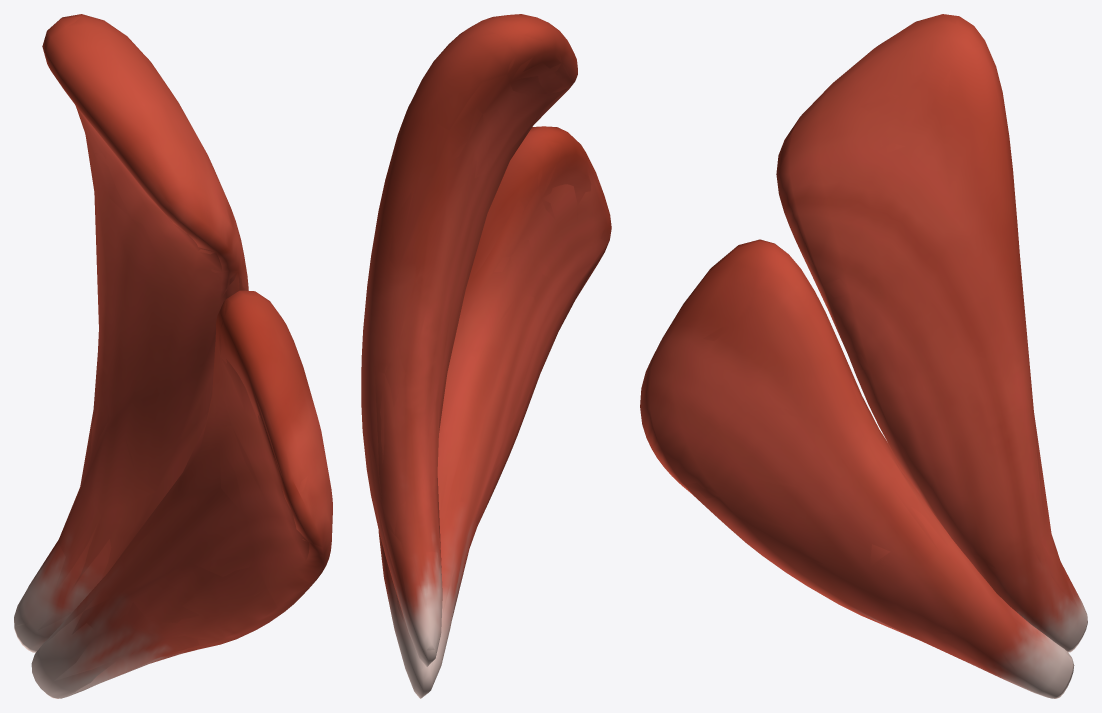
Rendered from L Triceps Brachii Long Head.fbx.
The picture shows the model from 3 angles, left to right: view 1: azimuth 30°, elevation 25°; view 2: azimuth 150°, elevation 25°; view 3: azimuth 270°, elevation 25°; orthographic projection. The views are drawn at different scales.
Parts seen in each view (by area): view 1: L Triceps Brachii Long Head low, L Triceps Brachii Long Head; view 2: L Triceps Brachii Long Head low, L Triceps Brachii Long Head; view 3: L Triceps Brachii Long Head, L Triceps Brachii Long Head low.
Boxes of the visible parts, x1,y1,x2,y2 form: L Triceps Brachii Long Head low: (14, 14, 331, 697); L Triceps Brachii Long Head: (14, 14, 332, 698); L Triceps Brachii Long Head low: (368, 19, 609, 693); L Triceps Brachii Long Head: (361, 14, 611, 698); L Triceps Brachii Long Head: (640, 14, 1087, 698); L Triceps Brachii Long Head low: (641, 14, 1079, 676).
Size of the model in its own units: 5.44 by 20.22 by 12.42.
